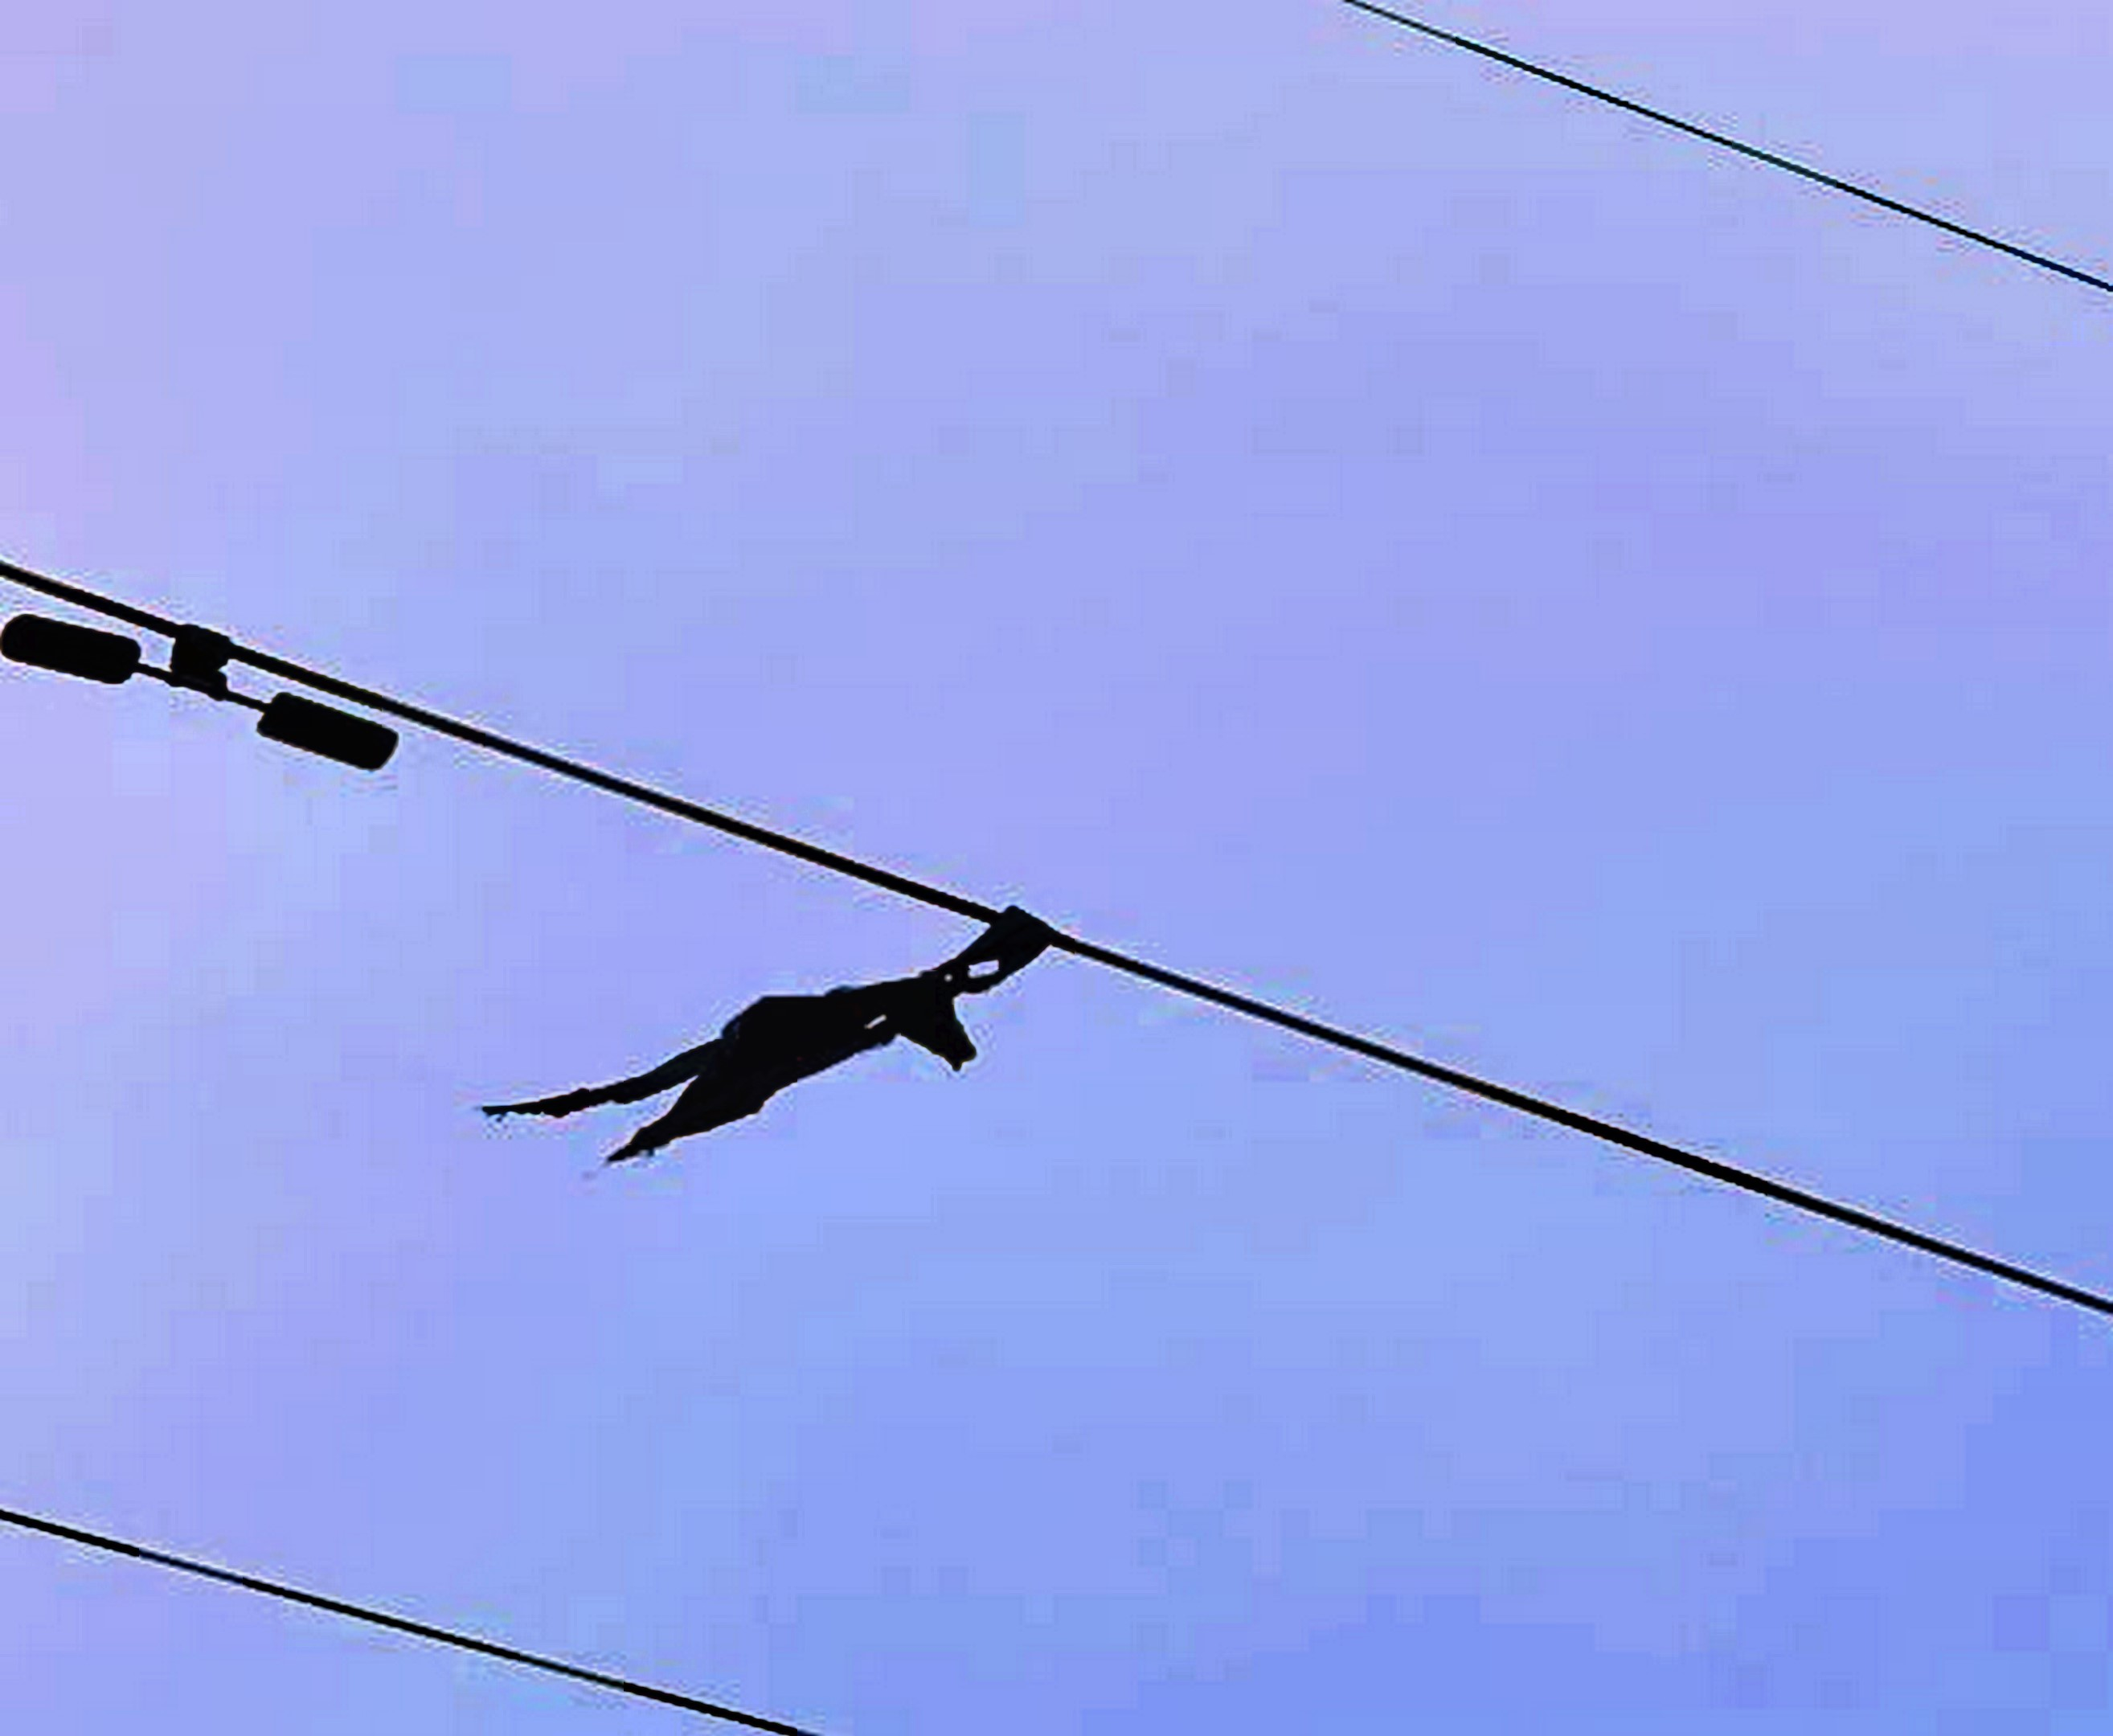wire foreign body: (491, 862, 1083, 1188)
